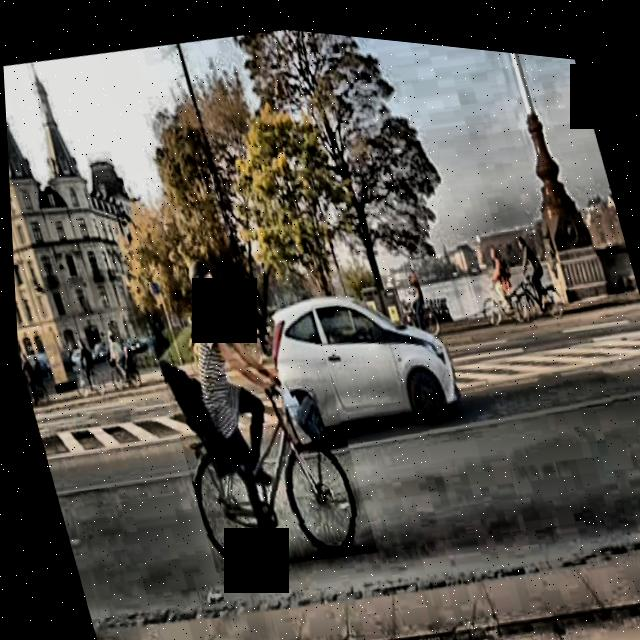bicycle: (158, 341, 374, 582)
